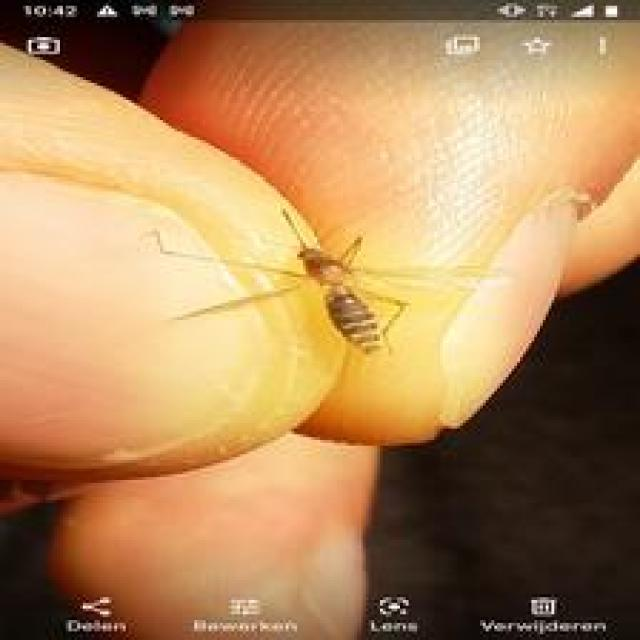Culex: (151, 207, 506, 359)
